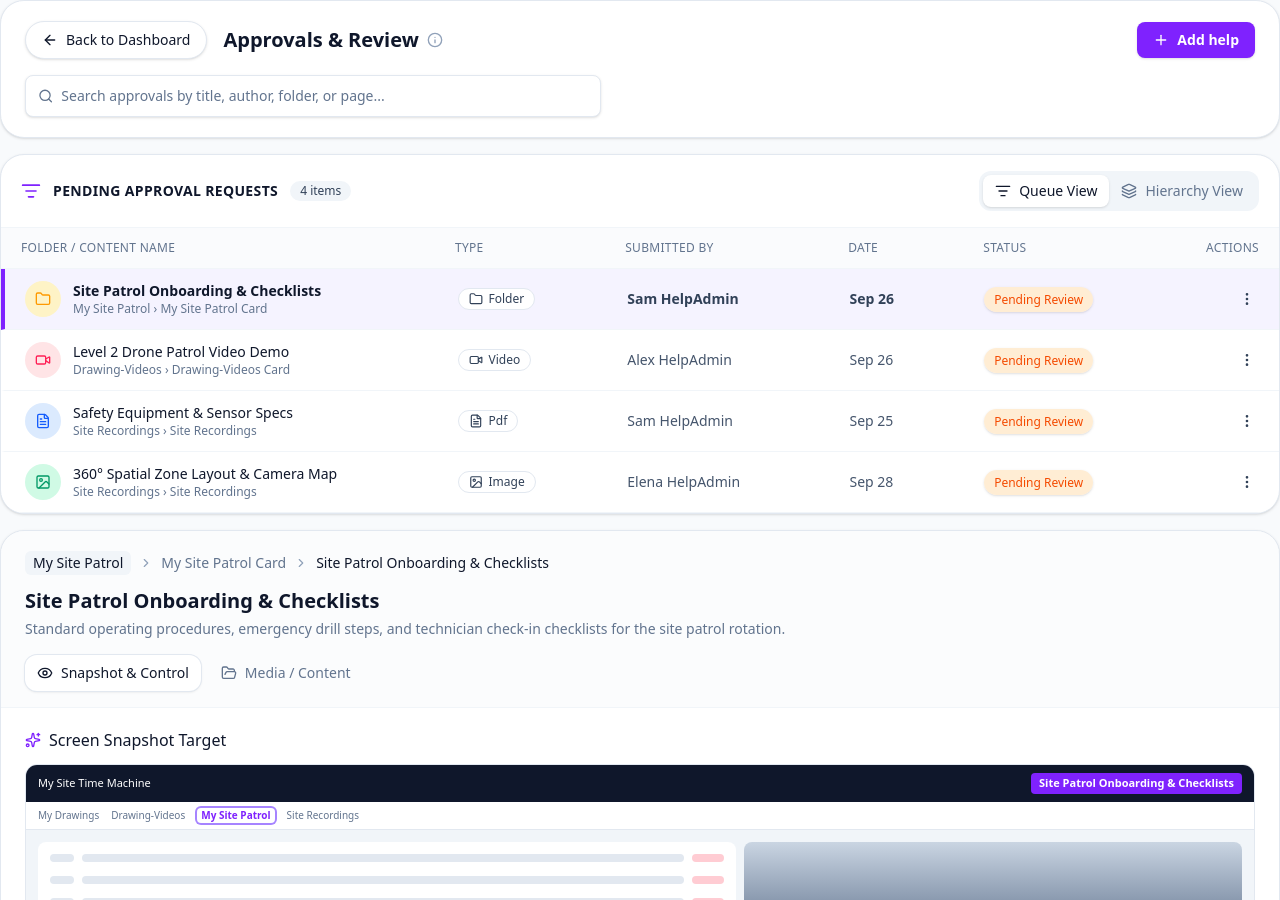
Test: ApprovalsWorkspace › filters by title, author or folder as you type
Step 1. Type "drone" into the search field with placeholder "Search approvals by title, author, folder, or page..." → (325, 96), box [61,86,588,106]
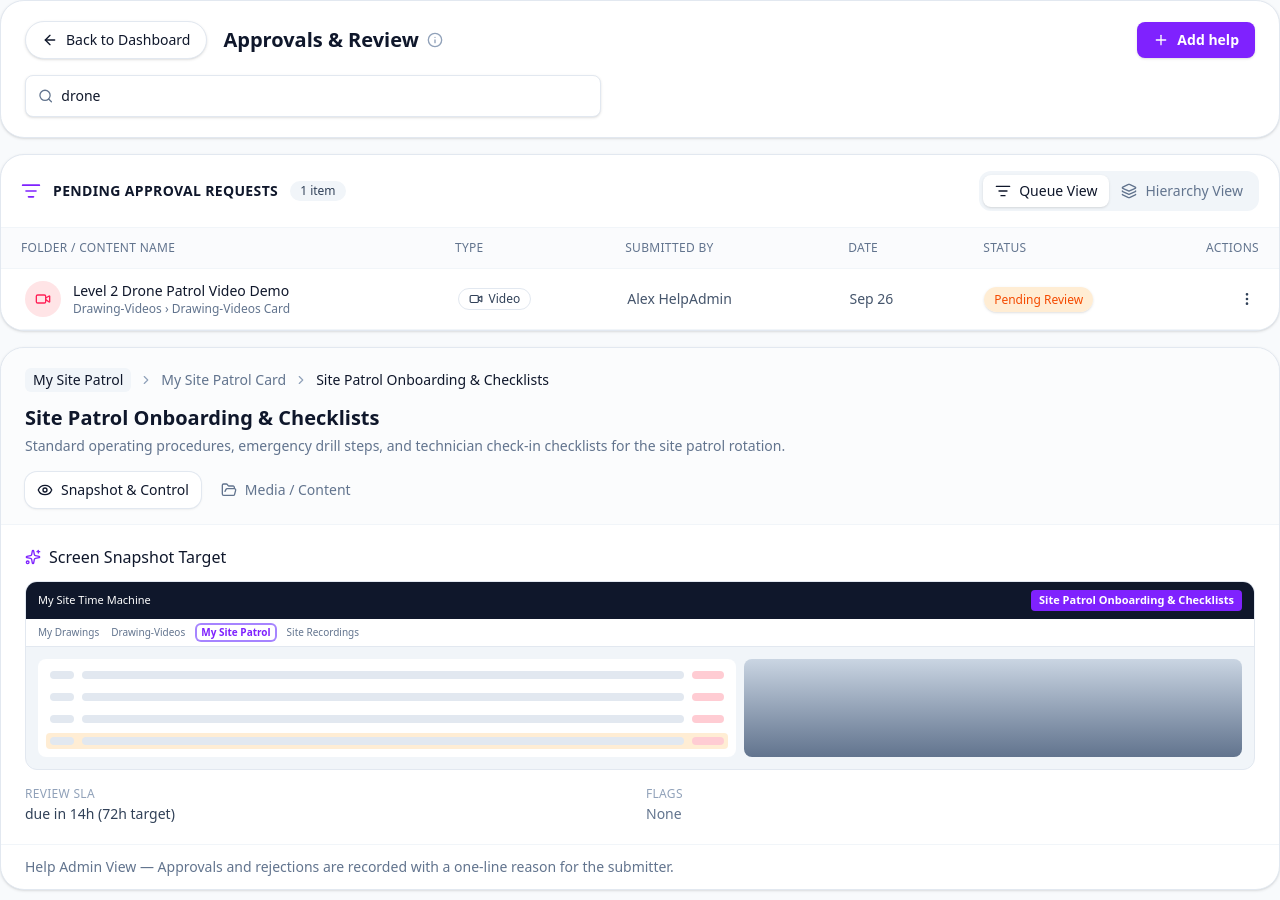
Now the number of rows with test id "approval-row" is 1, box [1,269,1279,330]
Step 2. Replace the text in the search field with placeholder "Search approvals by title, author, folder, or page..." with "elena" → (325, 96), box [61,86,588,106]
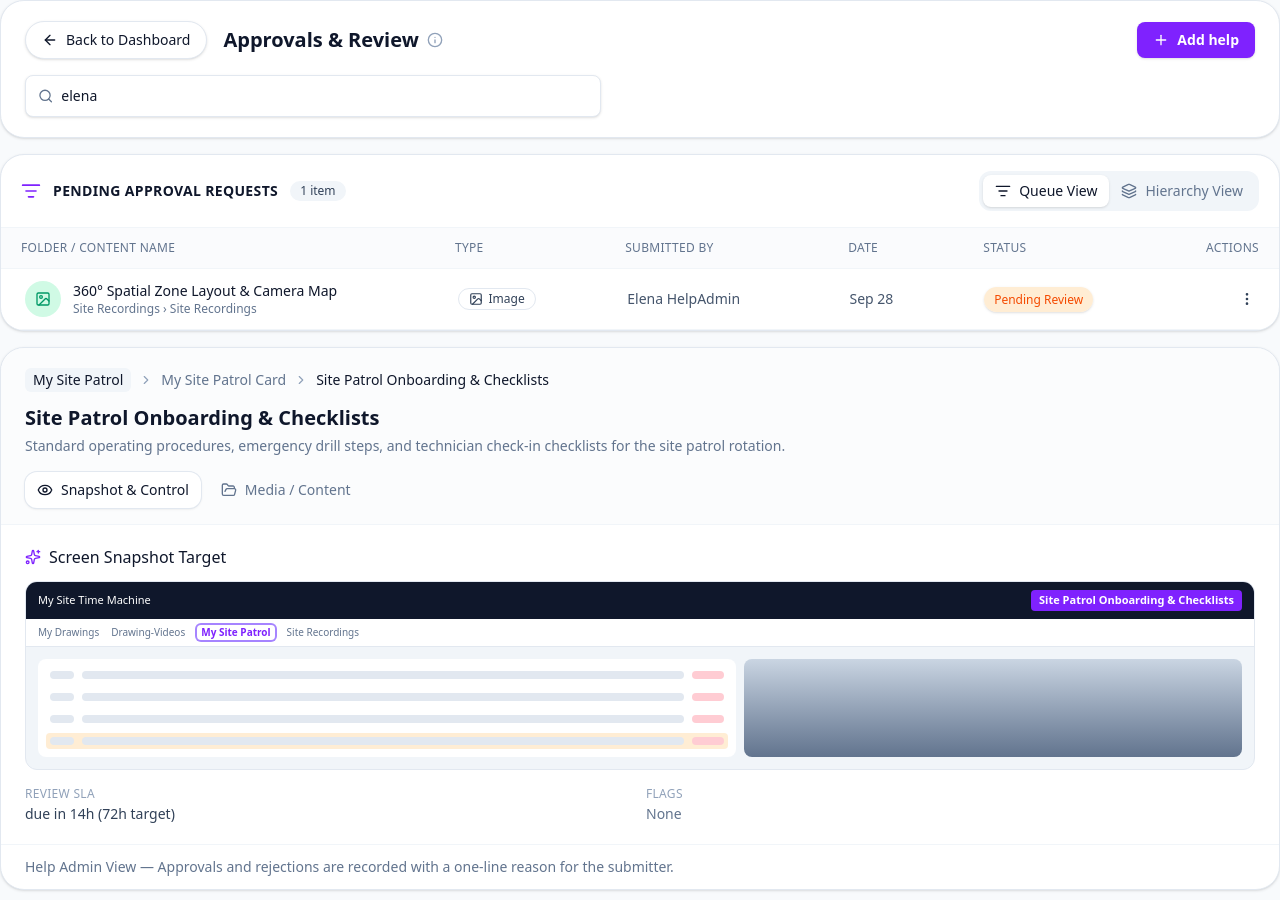
Now the text "360° Spatial Zone Layout & Camera Map" is shown, box [73,281,337,301]
Step 3. Replace the text in the search field with placeholder "Search approvals by title, author, folder, or page..." with "site recordings" → (325, 96), box [61,86,588,106]
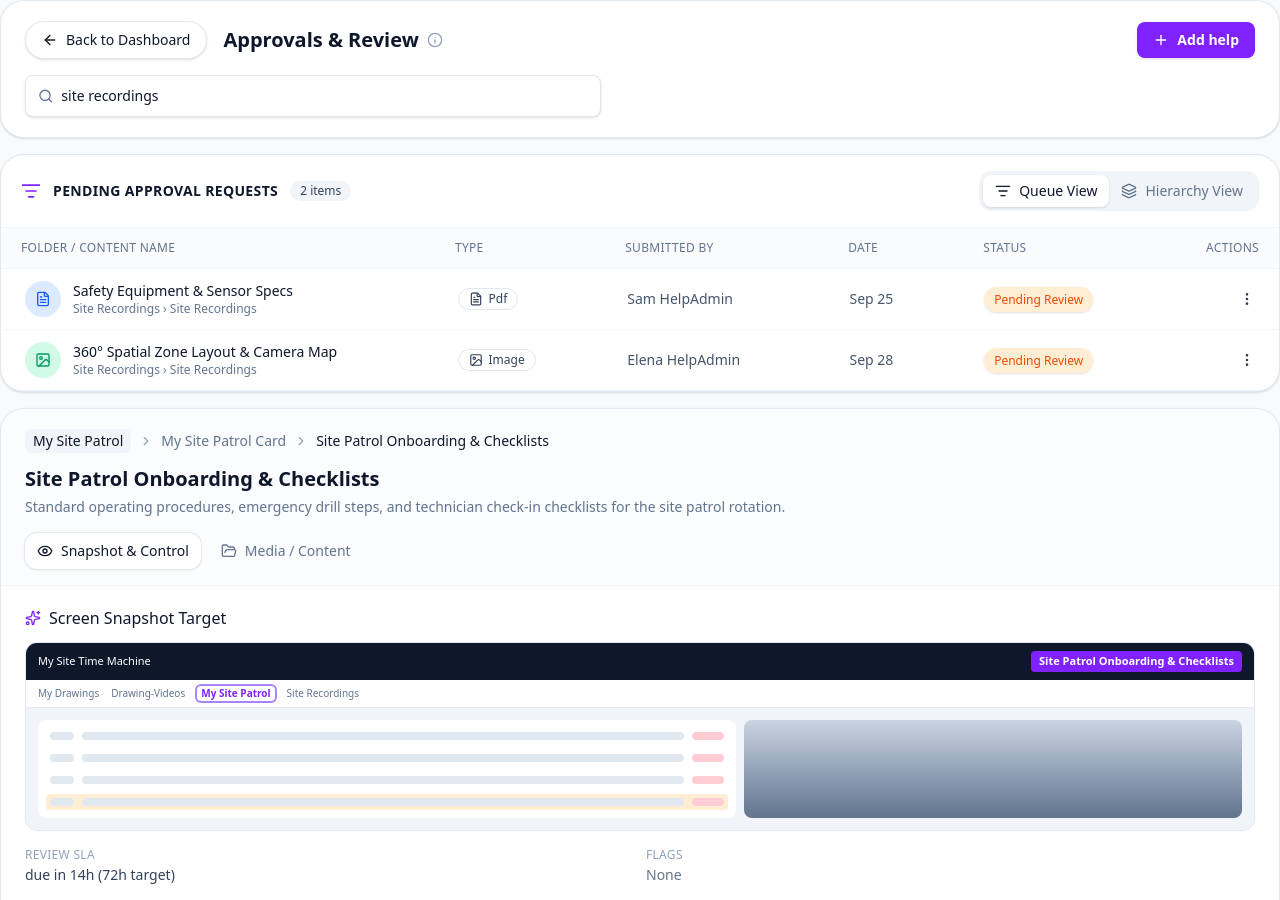
Now the number of rows with test id "approval-row" is 2, box [1,269,1279,330]; [1,330,1279,391]
Now the text with test id "request-count" reads "2 items", box [290,181,351,201]
